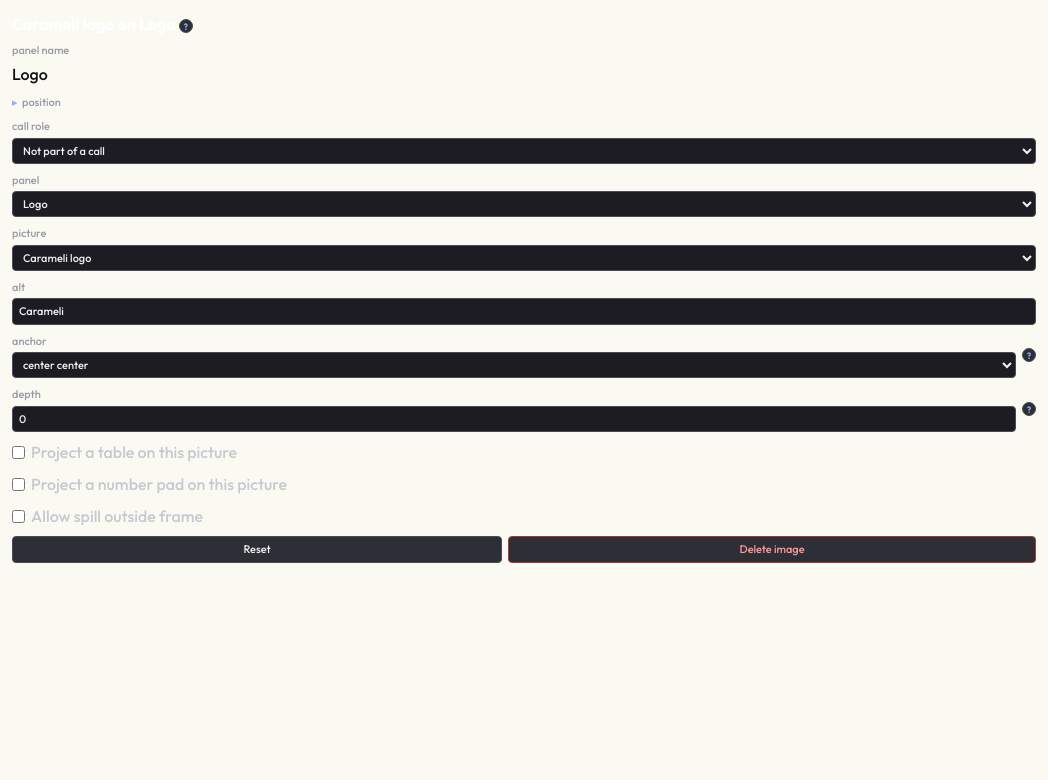
Test case: the selection read-out › folds the picture read-out away, and gives every figure back on one click
Expected: the text "offsetY" is not shown
Click the button "position".
click(41, 102)  # box [12, 94, 1036, 110]
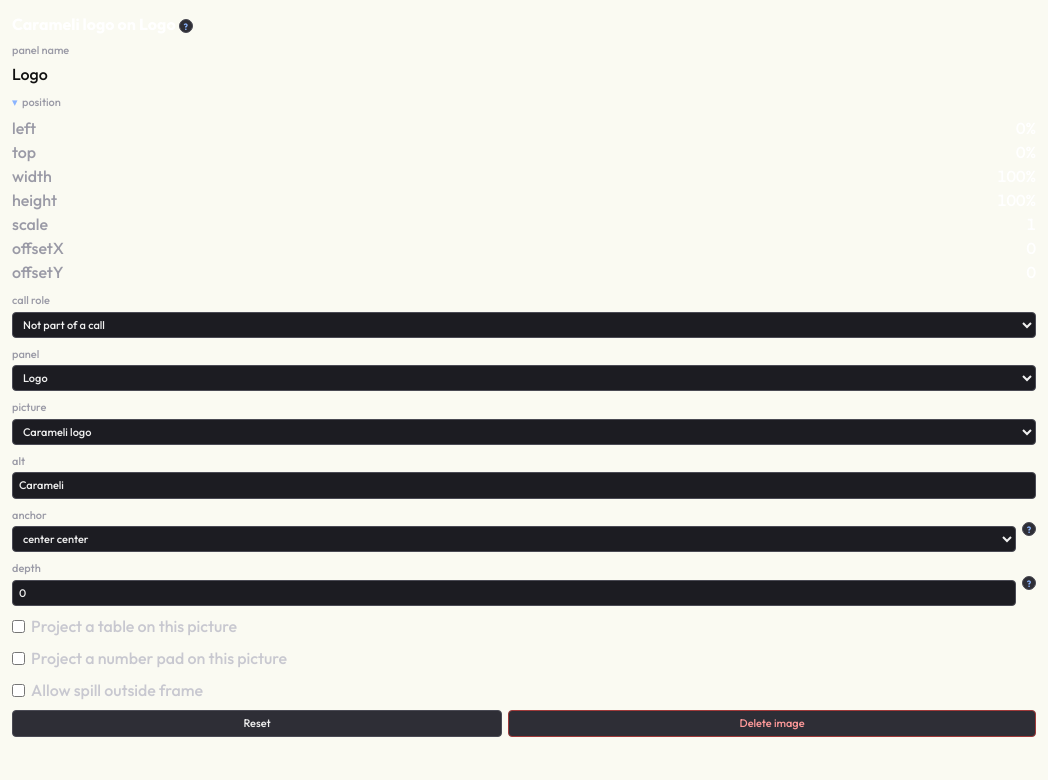
Now the text "left" is shown, box [12, 116, 36, 140]
Now the text "top" is shown, box [12, 140, 36, 164]
Now the text "width" is shown, box [12, 164, 52, 188]
